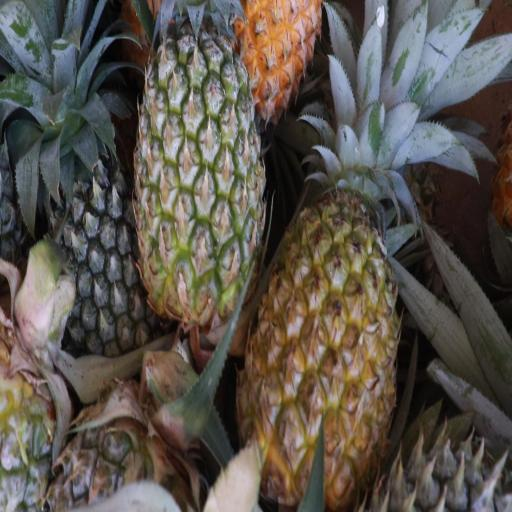------------------------------: (138, 40, 263, 325)
Pineapple - v8 v1: (249, 171, 407, 503), (222, 0, 320, 107)
